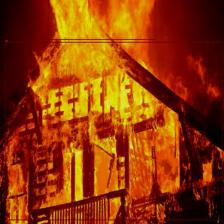fire: (5, 42, 223, 220), (48, 0, 155, 40)
